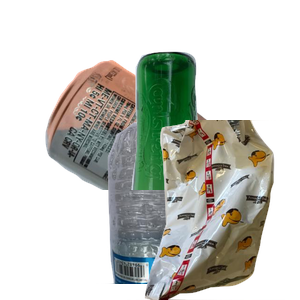glass: (129, 49, 300, 229)
metal: (43, 58, 283, 238)
plastic: (96, 120, 285, 300)
trash: (127, 120, 300, 300)
